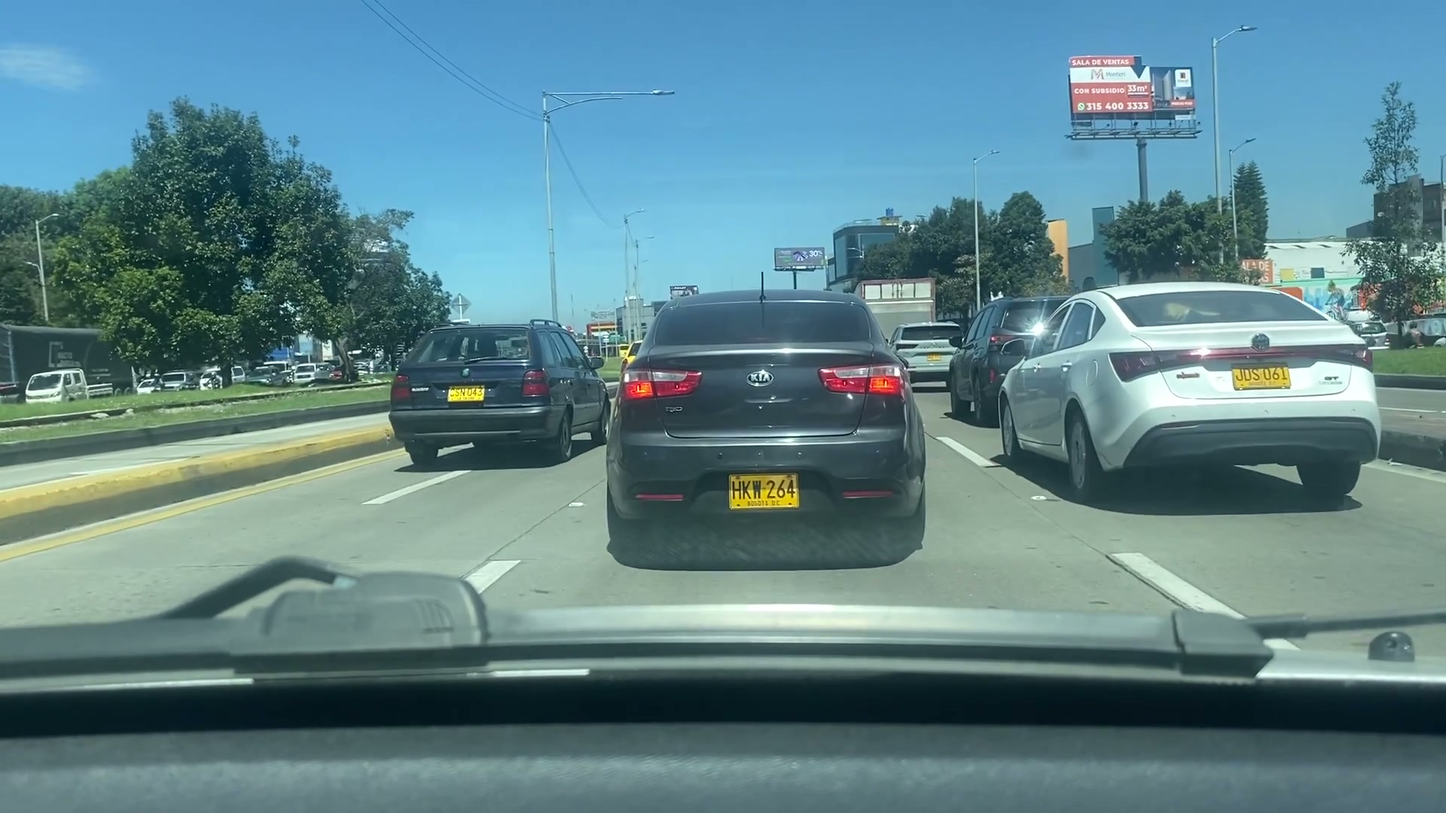car: (605, 287, 931, 544), (998, 279, 1378, 497), (387, 320, 608, 467), (947, 293, 1095, 425), (883, 323, 963, 389)
truck: (854, 279, 938, 348)
